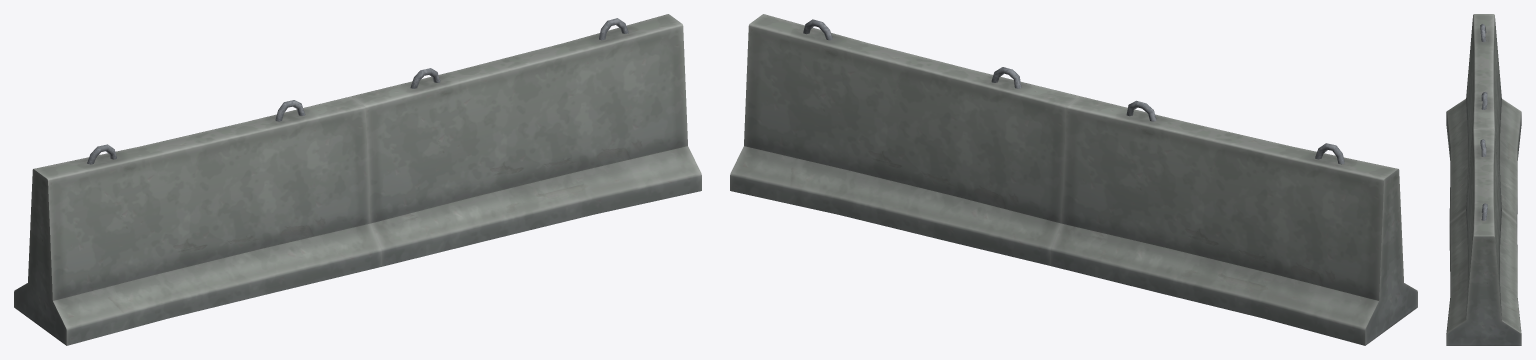
Rendered from BarrierConcrete03_2.FBX.
3 views of the same model, side by side, from view 1: azimuth 30°, elevation 25°; view 2: azimuth 150°, elevation 25°; view 3: azimuth 270°, elevation 25° (orthographic). The views are drawn at different scales.
Visible parts, largest first — view 1: BarrierConcrete03_2; view 2: BarrierConcrete03_2; view 3: BarrierConcrete03_2.
Part boxes in pixels (x1,y1,x2,y2): BarrierConcrete03_2: (14, 14, 701, 345); BarrierConcrete03_2: (730, 14, 1417, 345); BarrierConcrete03_2: (1446, 14, 1521, 345).
Size of what is drawn, in the model's own units: 3 by 0.7537 by 0.4303.
